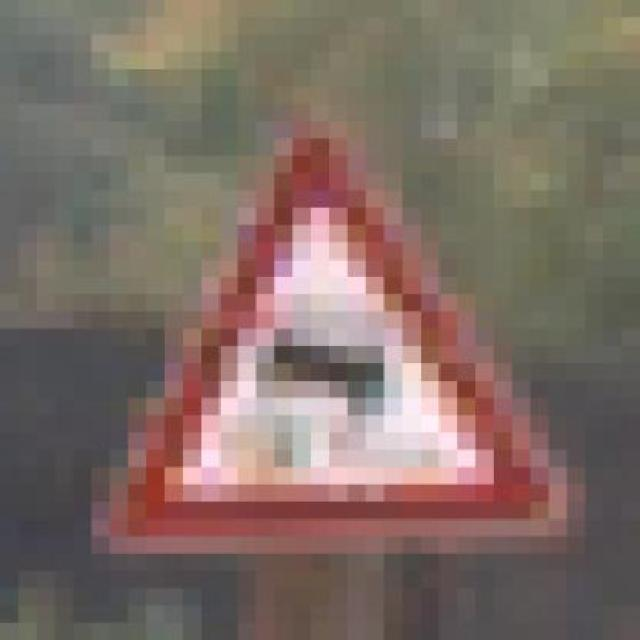Slippery Road Ahead: (91, 86, 604, 554)
